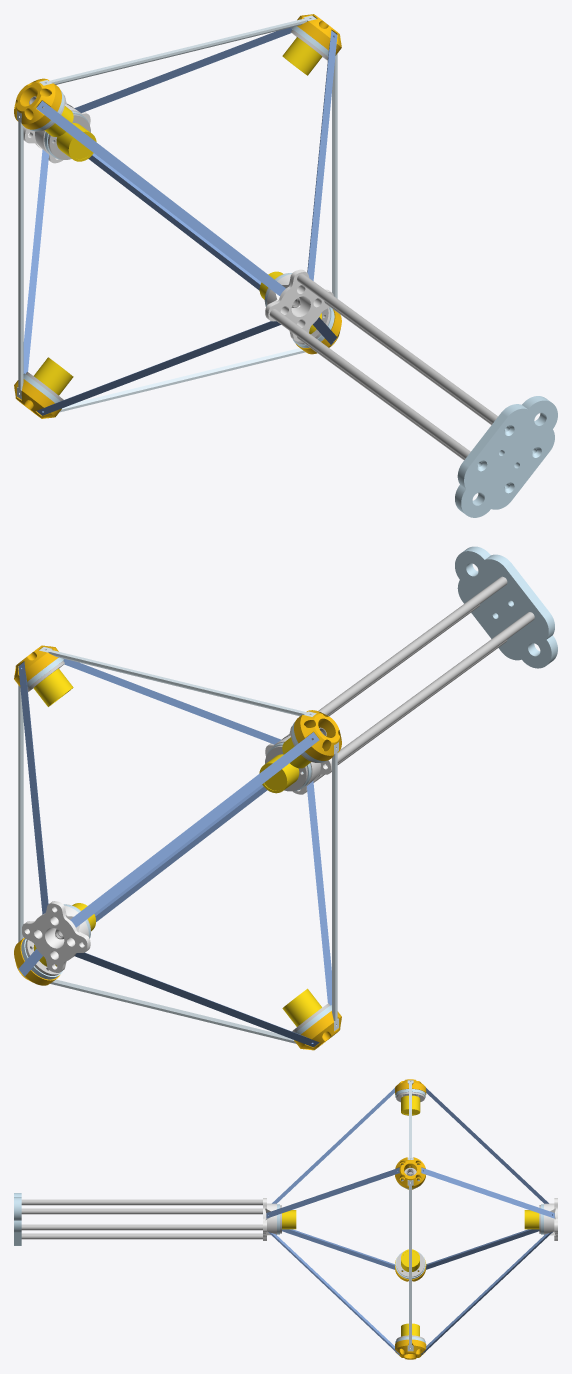
File: AnemometerAssembly.gltf
3 views of the same model, one above another, from view 1: azimuth 30°, elevation 25°; view 2: azimuth 150°, elevation 25°; view 3: azimuth 270°, elevation 25° (orthographic). The views are drawn at different scales.
Visible parts, largest first — view 1: BigBar (×6), Bottom_Connector, SmallBar (×4), tube_leg (×2), joint_rev2B (×3), KobitoneTransducer (×3), basejoint_rev2B; view 2: BigBar (×6), Bottom_Connector, SmallBar (×4), tube_leg (×2), joint_rev2B (×3), basejoint_rev2B, KobitoneTransducer (×3); view 3: tube_leg (×4), BigBar (×8), joint_rev2B (×2), basejoint_rev2B (×2), SmallBar, Bottom_Connector.
Boxes of the visible parts, x1,y1,x2,y2 form: BigBar (×6): [23, 27, 337, 415]; Bottom_Connector: [455, 396, 557, 517]; SmallBar (×4): [17, 15, 337, 412]; tube_leg (×2): [269, 273, 497, 458]; joint_rev2B (×3): [14, 14, 341, 418]; KobitoneTransducer (×3): [34, 37, 322, 395]; basejoint_rev2B: [265, 269, 333, 341]; BigBar (×6): [18, 658, 331, 1047]; Bottom_Connector: [455, 546, 557, 668]; SmallBar (×4): [18, 647, 338, 1043]; tube_leg (×2): [318, 576, 534, 766]; joint_rev2B (×3): [14, 645, 341, 1050]; basejoint_rev2B: [22, 901, 90, 972]; KobitoneTransducer (×3): [33, 668, 321, 1026]; tube_leg (×4): [21, 1199, 262, 1239]; BigBar (×8): [266, 1088, 554, 1355]; joint_rev2B (×2): [395, 1157, 426, 1359]; basejoint_rev2B (×2): [263, 1198, 557, 1240]; SmallBar: [407, 1180, 413, 1351]; Bottom_Connector: [14, 1193, 21, 1245].
Bounding box in the file's own units: 0.185 × 0.185 × 0.4577.
